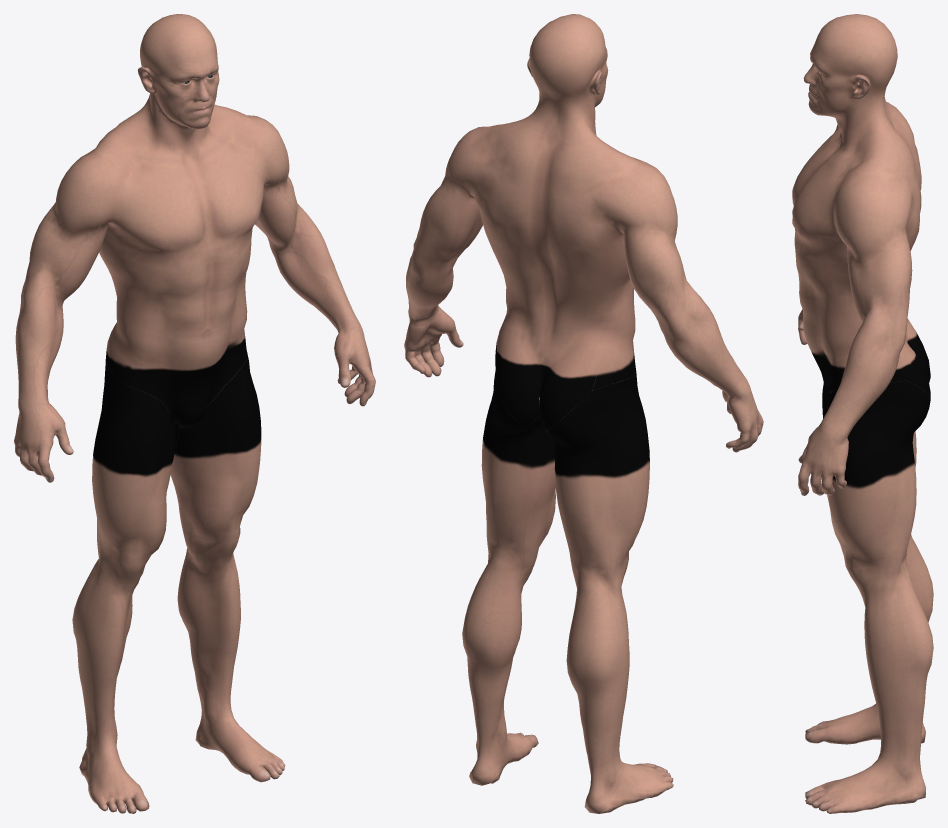
File: Gladiator_Man.fbx
The picture shows the model from 3 angles, left to right: view 1: azimuth 30°, elevation 25°; view 2: azimuth 150°, elevation 25°; view 3: azimuth 270°, elevation 25°; orthographic projection.
Visible parts, largest first — view 1: Body; view 2: Body; view 3: Body.
Boxes of the visible parts, x1,y1,x2,y2 form: Body: (14,14,375,813); Body: (404,14,763,813); Body: (792,14,933,813).
Size of the model in its own units: 93.74 by 195 by 33.18.
Materials: 2 (2 with a texture image).
